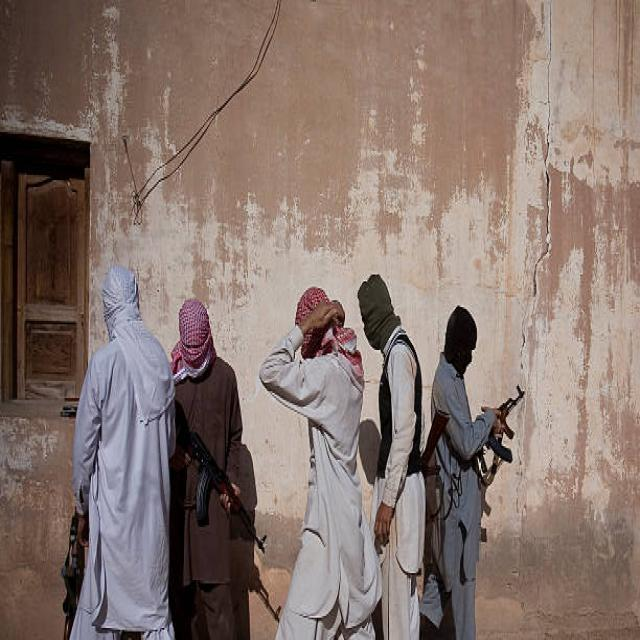civilian: (259, 287, 381, 638)
terrorist: (61, 266, 175, 638), (420, 305, 523, 638), (358, 275, 449, 638), (170, 299, 256, 638)
